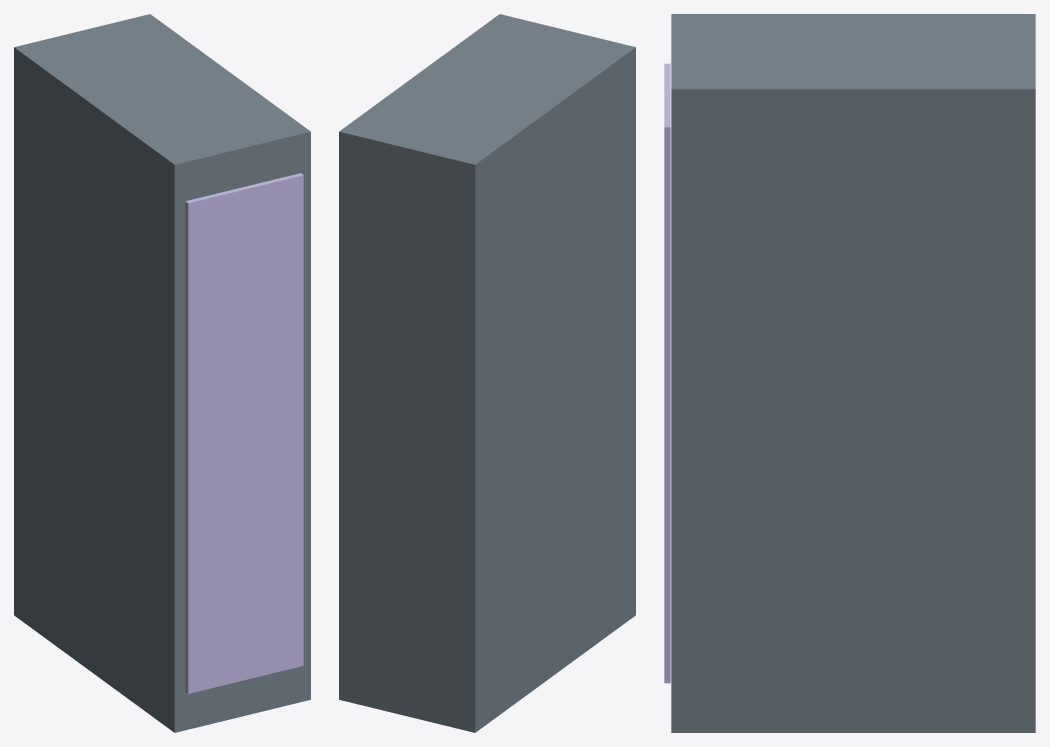
3 renders of one model, left to right at view 1: azimuth 30°, elevation 25°; view 2: azimuth 150°, elevation 25°; view 3: azimuth 270°, elevation 25°, orthographic. The views are drawn at different scales.
Visible parts, largest first — view 1: Body, Front; view 2: Body; view 3: Body, Front.
Boxes of the visible parts, x1=… form: Body: x1=14, y1=14, x2=310, y2=732; Front: x1=185, y1=173, x2=303, y2=693; Body: x1=339, y1=14, x2=635, y2=732; Body: x1=671, y1=14, x2=1035, y2=732; Front: x1=664, y1=63, x2=670, y2=683.
Size of the model in its own units: 0.552 by 2.2 by 1.15.
